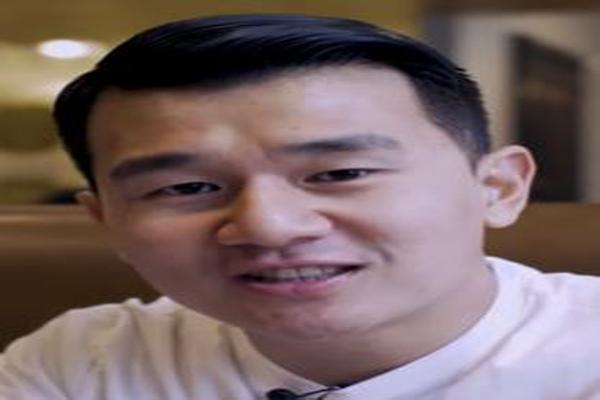Chinese: (93, 90, 461, 339)
